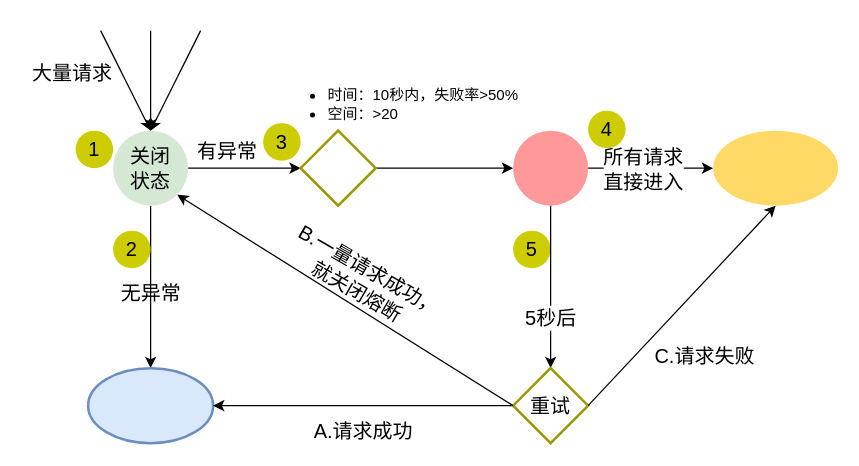
Image size: 859x466. Some labels were removed from this diagram. The shapes that lost their labels are listed below. From the top down, each one's centre as x and y in pixels, then its label:
At (337,167): "验证".
At (550,167): "启动 状态".
At (775,167): "Fallback".
At (150,405): "服务方".
